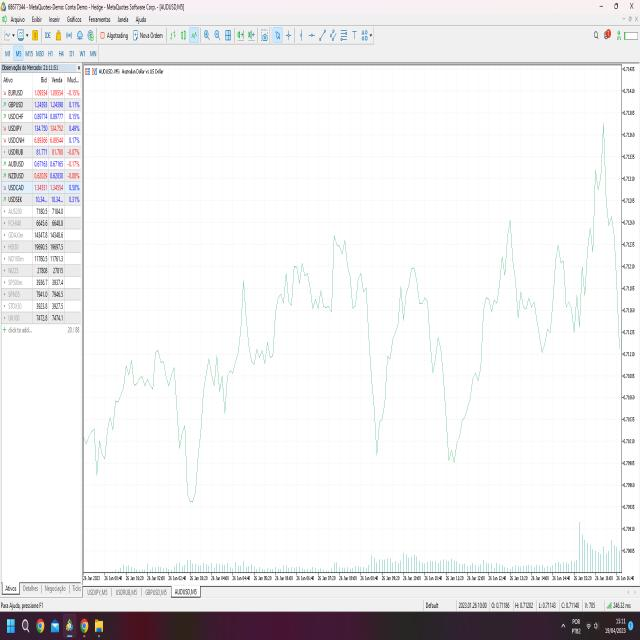fundo_duplo: (356, 201, 483, 506)
oco: (475, 196, 548, 380)
